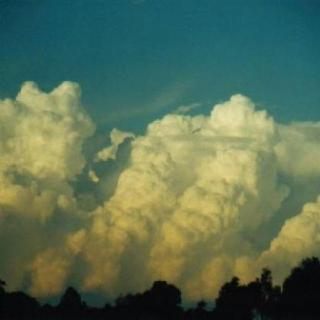Cumulonimbus: (0, 19, 320, 308)
